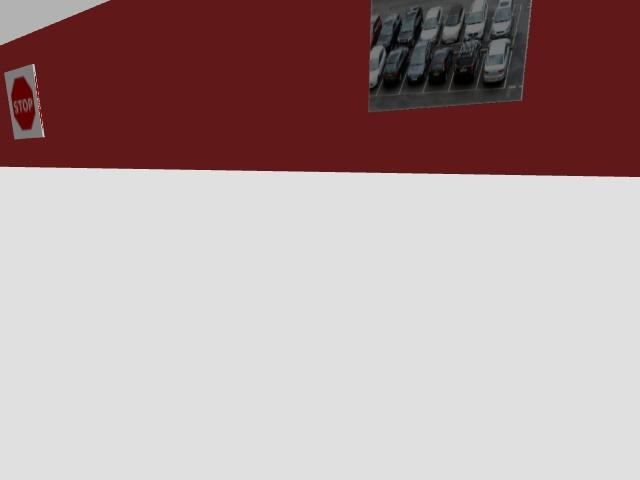stopsign: (5, 65, 43, 138)
vehicle: (483, 38, 510, 82), (406, 40, 431, 83), (454, 39, 480, 80), (397, 6, 422, 47), (382, 46, 408, 85), (441, 4, 465, 44), (376, 14, 401, 52), (464, 0, 487, 40), (490, 0, 513, 39), (428, 47, 452, 82), (420, 7, 442, 44), (369, 45, 386, 88), (370, 15, 381, 48)
